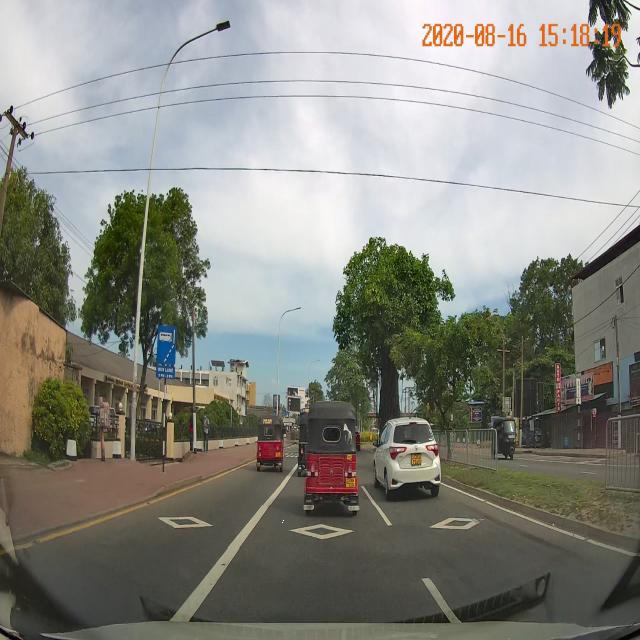diamond: (223, 506, 403, 548)
